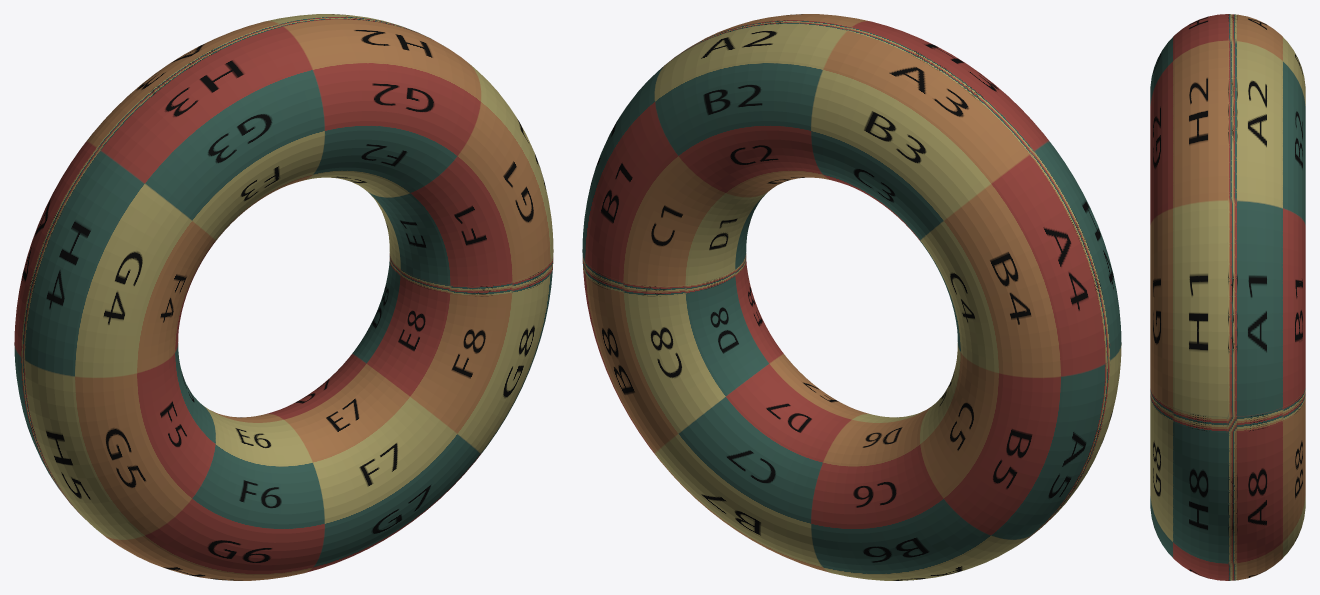
Rendered from texture_torus_R0_r2.glb.
The picture shows the model from 3 angles, left to right: view 1: azimuth 30°, elevation 25°; view 2: azimuth 150°, elevation 25°; view 3: azimuth 270°, elevation 25°; orthographic projection. The views are drawn at different scales.
Visible parts, largest first — view 1: world; view 2: world; view 3: world.
Part boxes in pixels (x1,y1,x2,y2): world: (14, 14, 553, 580); world: (582, 14, 1121, 580); world: (1150, 14, 1305, 580).
Bounding box in the file's own units: 13.78 × 13.78 × 3.77.
Materials: 1 (1 with a texture image).
